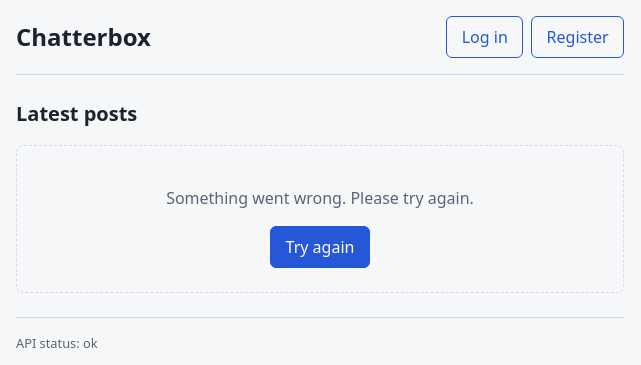
it: Feed › AT-F8: a 500 error shows a message and a retry action, and retrying loads the feed
The width and height of the screenshot is (641, 365).
Expected: the text "Something went wrong. Please try again." is shown, [166,187,474,209]
Expected: the heading "Chatterbox" is shown, [16,19,151,55]
Step 1. Click the button "Try again" → (320, 247), box [270,226,370,268]
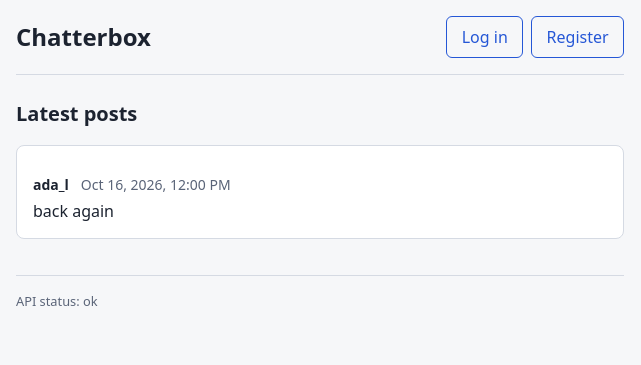
Now the text "back again" is shown, box [33,200,114,222]
Now the text "try again" is gone
